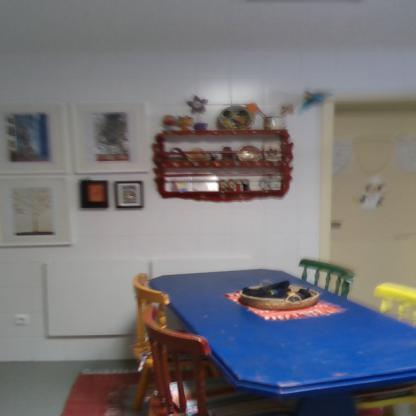door: (330, 108, 415, 313)
lever: (329, 222, 342, 227)
